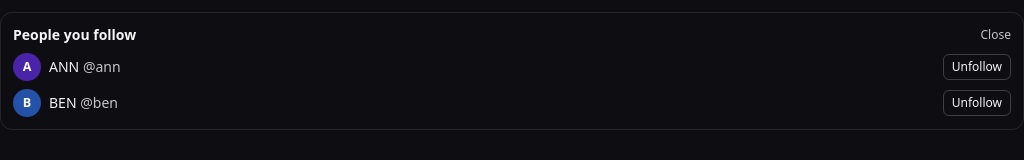
Test case: FollowLists › lists the people you follow and lets you stop following one
Click the button with aria-label "Stop following BEN": {"x": 977, "y": 103} [943,90,1011,116]
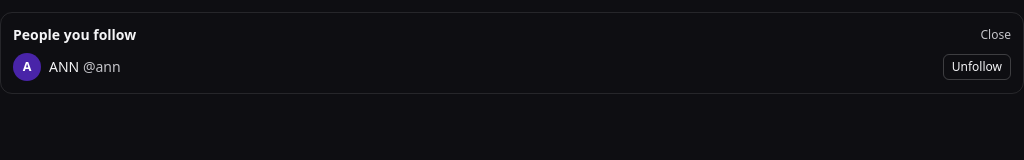
Expected: the link "ANN @ann" is shown, [49,57,121,76]
Now the link "BEN" is gone
